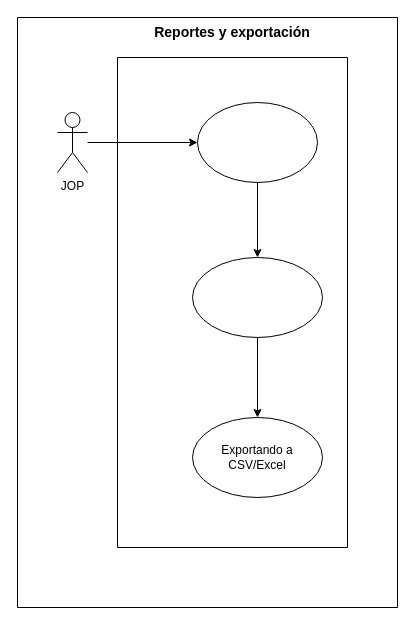
Some shapes in this 415 by 625 pixel diagram are drawn without their labels. Here are the shapes that lost their labels. From the top down, the centre of each, then its label:
At [257,142]: "Auditando reportes de movimientos periódicamente".
At [257,297]: "Utilizando filtros avanzados en reportes".
